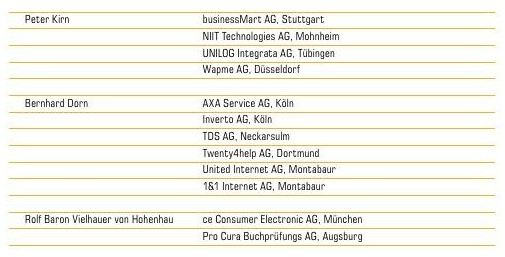table: (0, 0, 505, 257)
